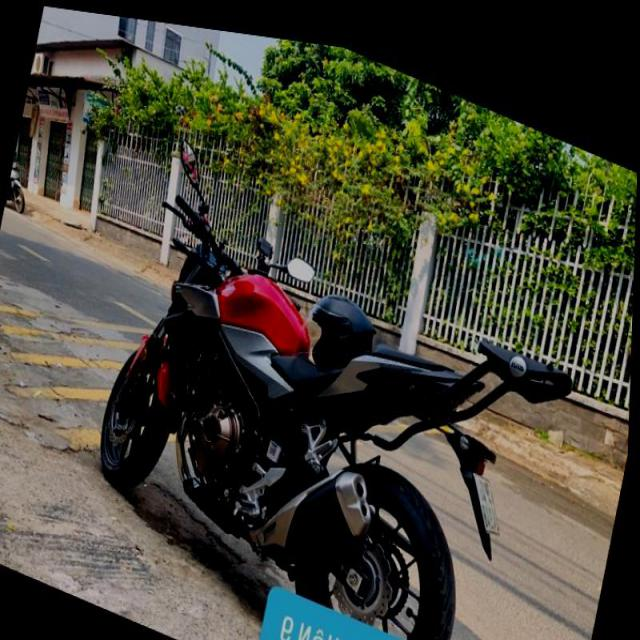CB500F: (72, 179, 582, 639)
